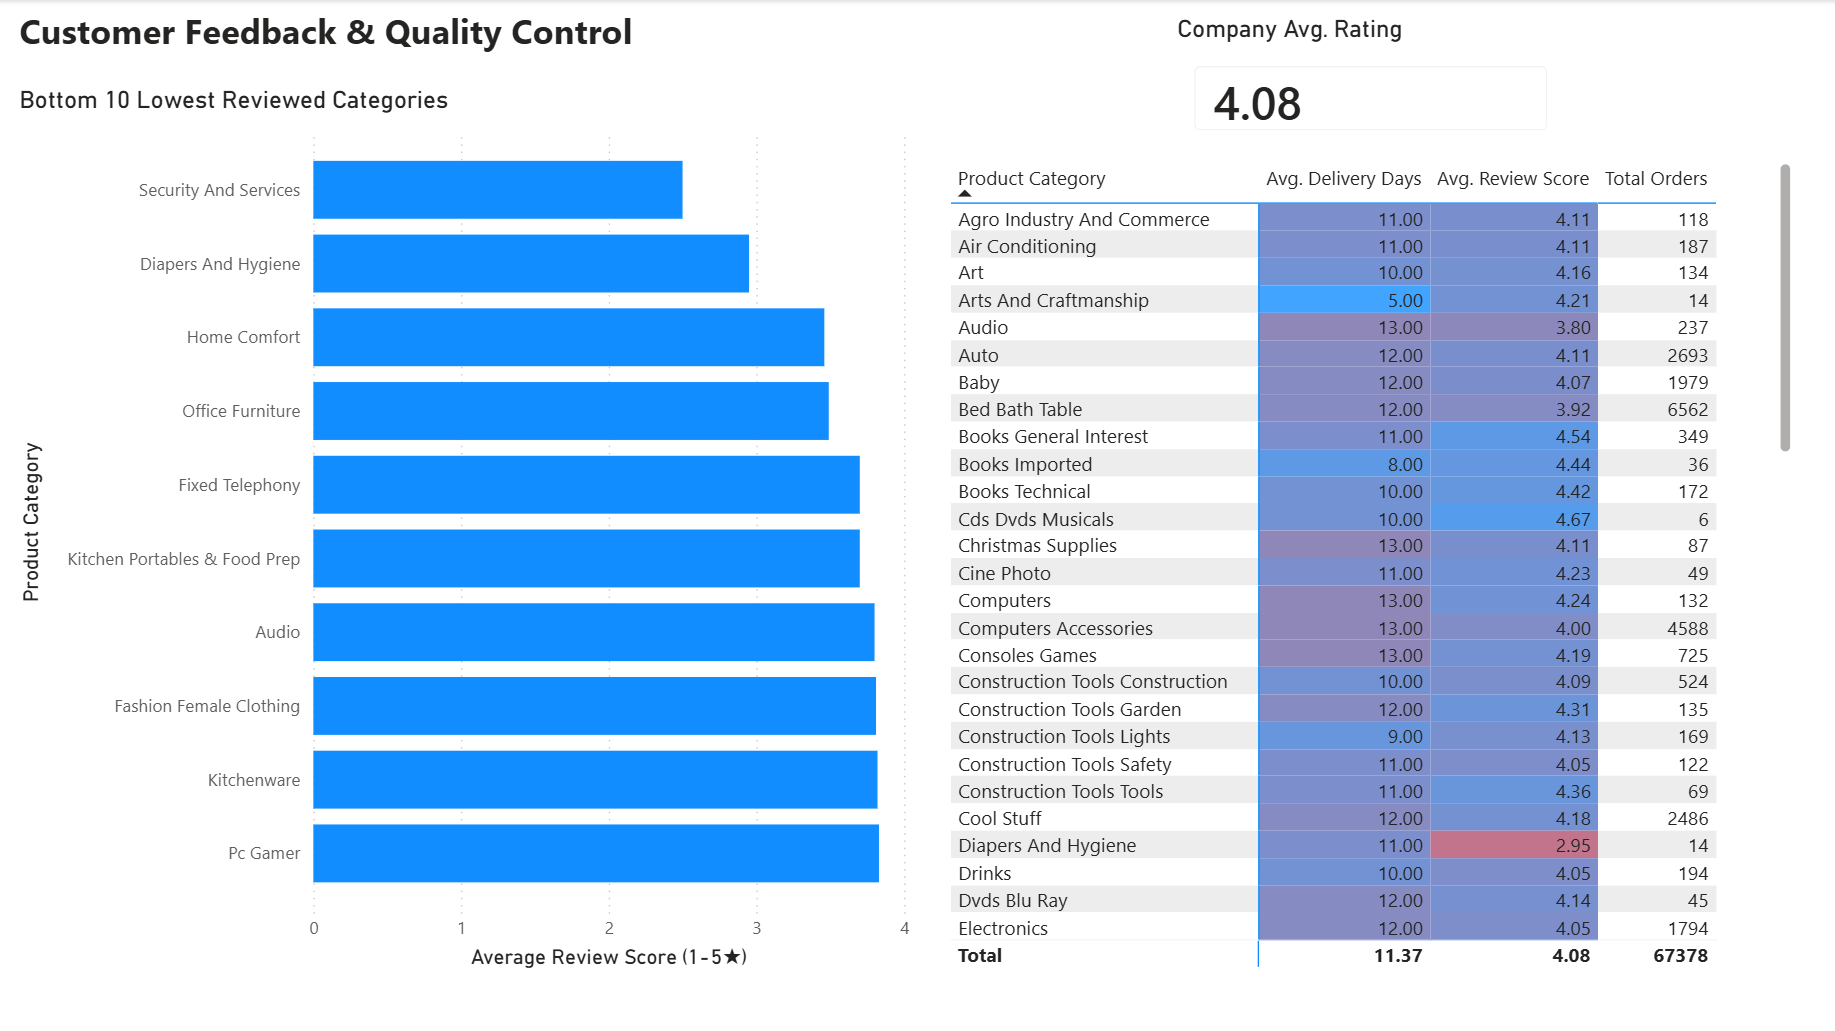

What the dashboard file says about the page in this screenshot:
{"tool":"powerbi","page":{"name":"Customer Satisfaction","canvas":[1280,720],"ordinal":2},"visuals":[{"type":"cardVisual","title":"Company Avg. Rating","fields":{"Data":["Avg(Query3.avg_review_score)"]},"box":[816.1,10,280.1,98.7],"z":0},{"type":"clusteredBarChart","title":"Bottom 10 Lowest Reviewed Categories","fields":{"Y":["Sum(Query3.avg_review_score)"],"Category":["Query3.Final_Category_English"]},"box":[9.2,59.4,630.5,619.6],"z":1000},{"type":"pivotTable","fields":{"Values":["Avg(Query3.avg_delivery_days)","Avg(Query3.avg_review_score)","Sum(Query3.total_orders)"],"Rows":["Query3.Final_Category_English"]},"box":[658,108.7,596.2,570.3],"z":2000},{"type":"textbox","box":[9.2,0,468.2,51.8],"z":2001}]}

Visuals, with their boxes in screenshot pixels (x1, y1, x2, y2), scaled from the page's 1280x720 canvas onto the 1835x1031 screenshot:
"Company Avg. Rating" cardVisual: {"left": 1170, "top": 14, "right": 1572, "bottom": 156}
"Bottom 10 Lowest Reviewed Categories" clusteredBarChart: {"left": 13, "top": 85, "right": 917, "bottom": 972}
pivotTable - Avg(Query3.avg_delivery_days) x Avg(Query3.avg_review_score): {"left": 943, "top": 156, "right": 1798, "bottom": 972}
textbox: {"left": 13, "top": 0, "right": 684, "bottom": 74}
